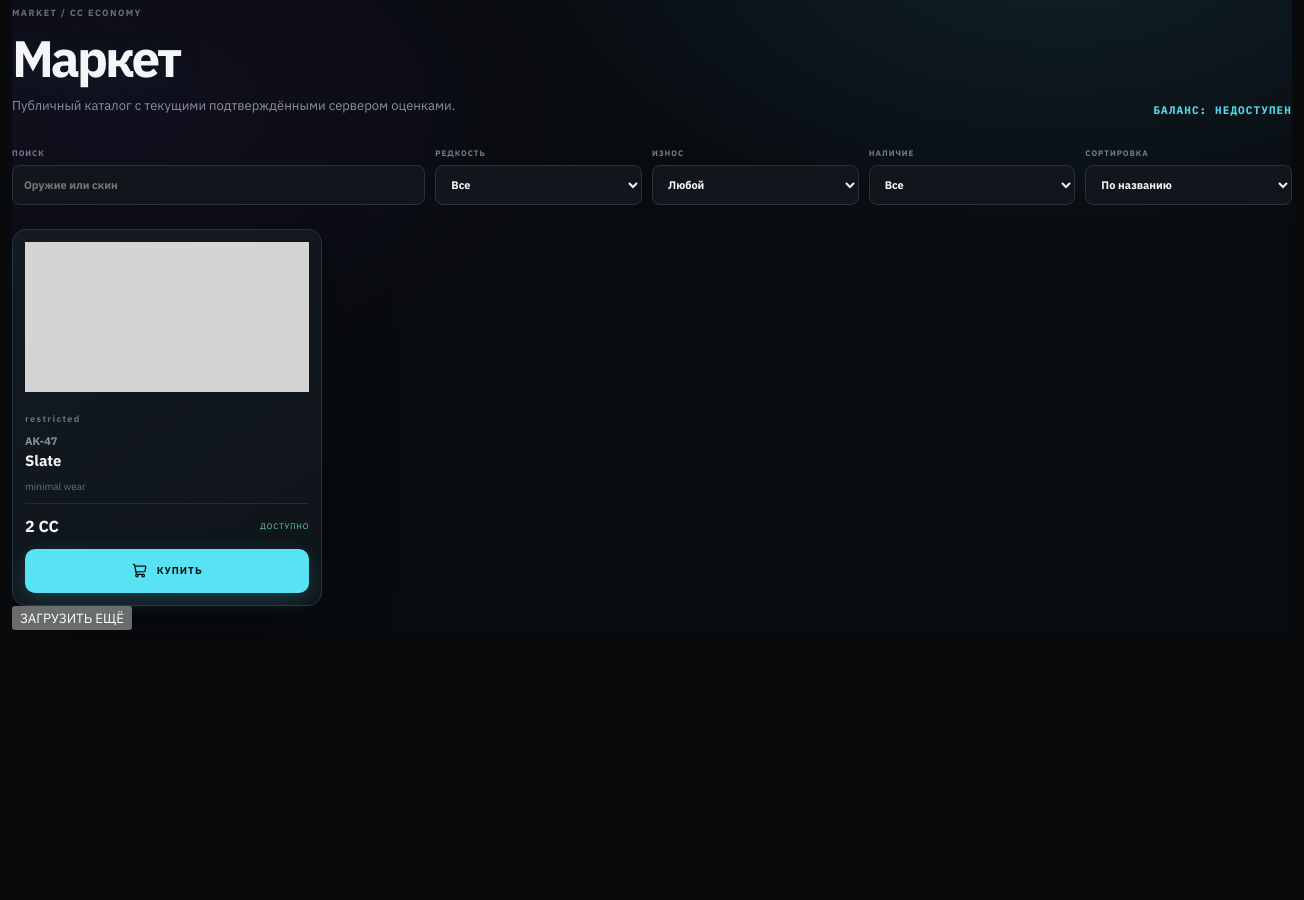
loads valuation pages progressively with the catalog instead of fetching the full snapshot
This screenshot has width=1304, height=900.
Expected: the text "Slate" is shown, [25,451,62,470]
Click the button "ЗАГРУЗИТЬ ЕЩЁ" at [72, 618], box [12,606,132,630]
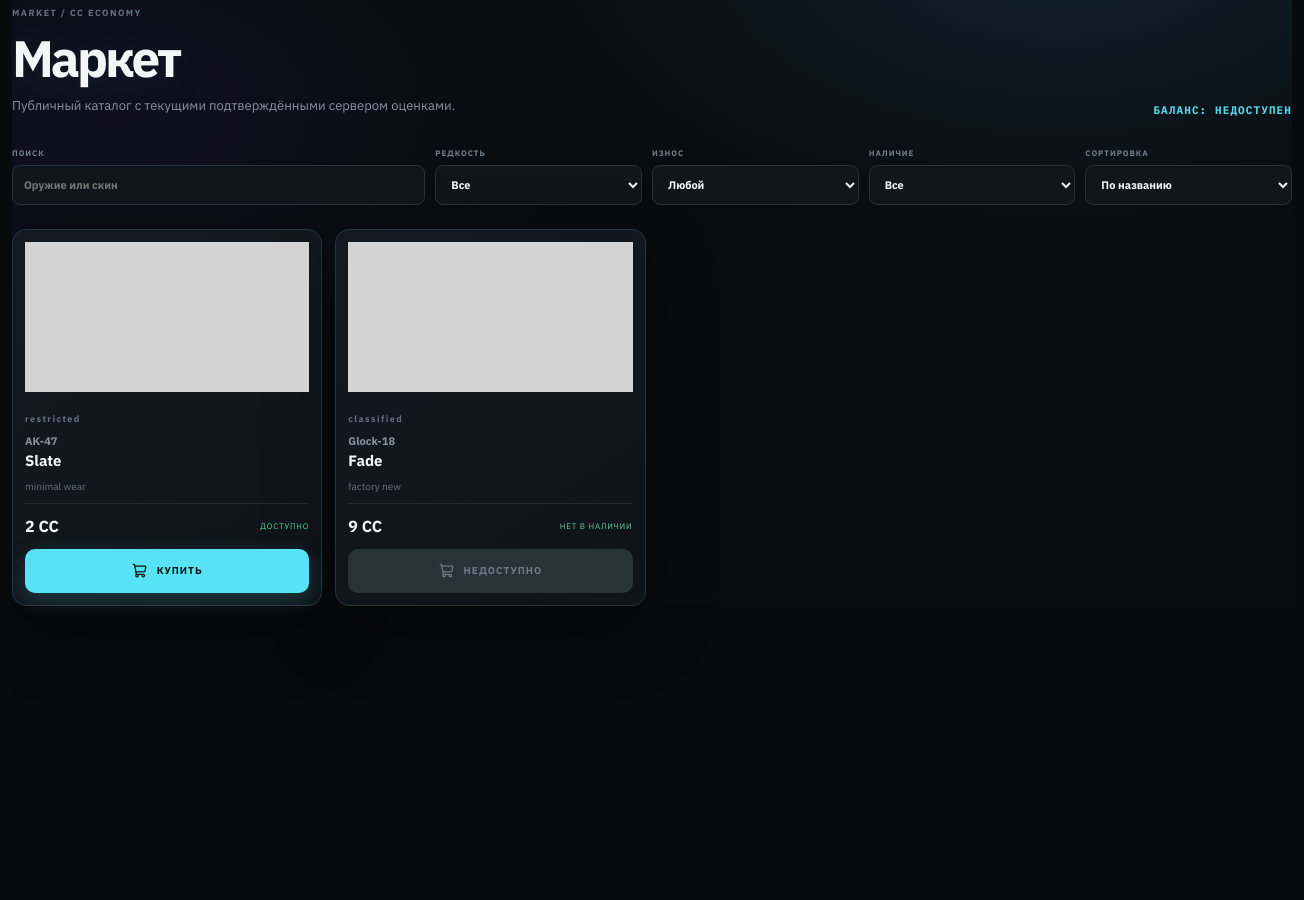
Now the text "Fade" is shown, box [348,451,383,470]
